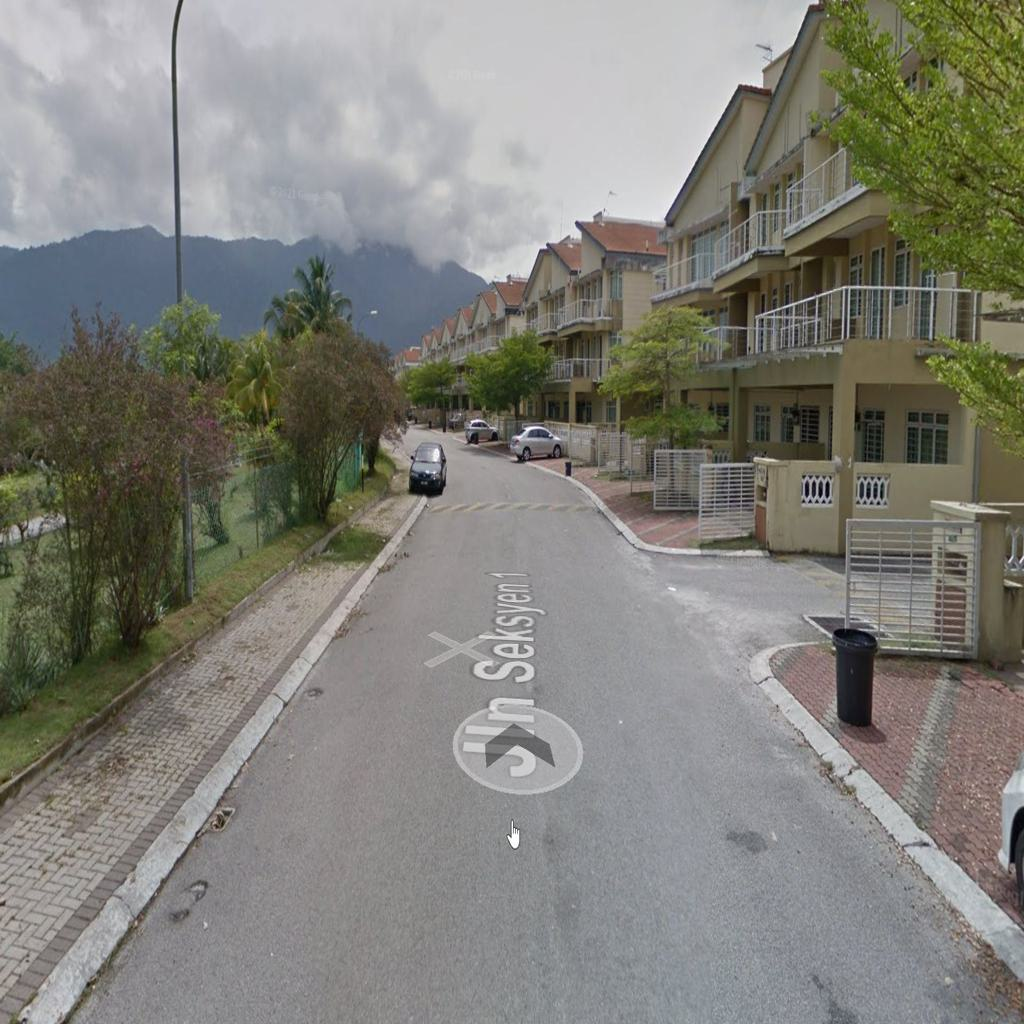Junction: (603, 505, 925, 670)
